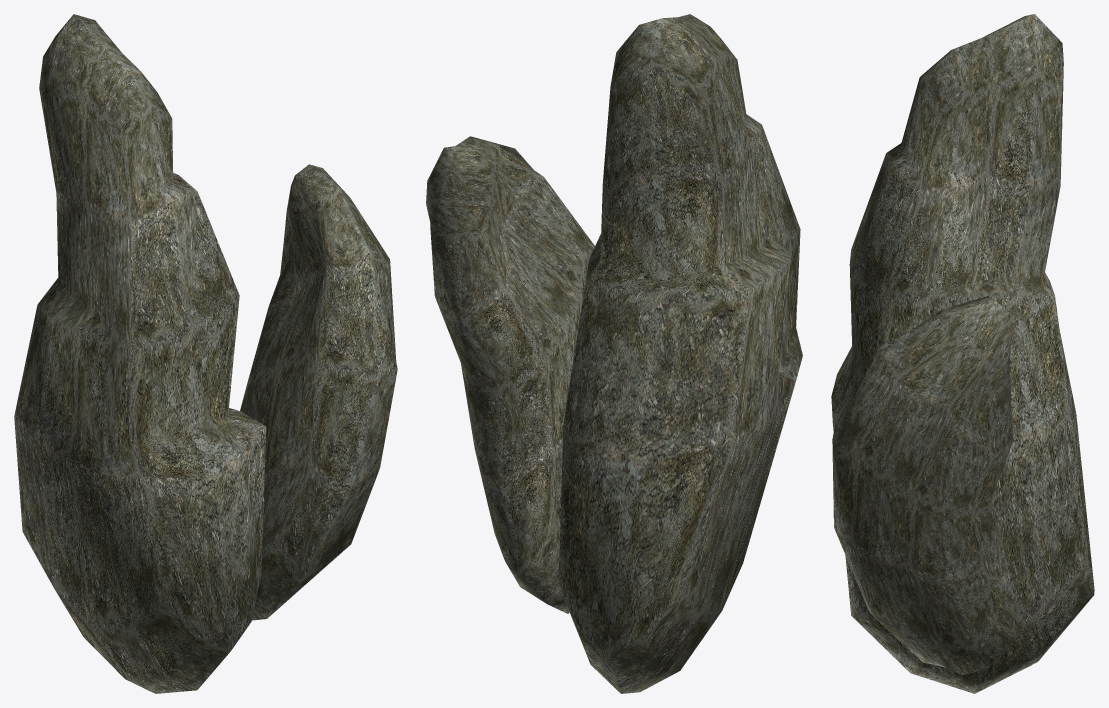
File: rock_dant_a5_l0.fbx
3 views of the same model, side by side, from view 1: azimuth 30°, elevation 25°; view 2: azimuth 150°, elevation 25°; view 3: azimuth 270°, elevation 25° (orthographic). The views are drawn at different scales.
Visible parts, largest first — view 1: mesh_node; view 2: mesh_node; view 3: mesh_node.
Part boxes in pixels (box(x1,y1,x2,y2)): mesh_node: box(14, 14, 397, 693); mesh_node: box(426, 14, 802, 693); mesh_node: box(831, 14, 1094, 693).
Size of the model in its own units: 2.46 by 4.86 by 1.77.
1 material, 1 textured.
